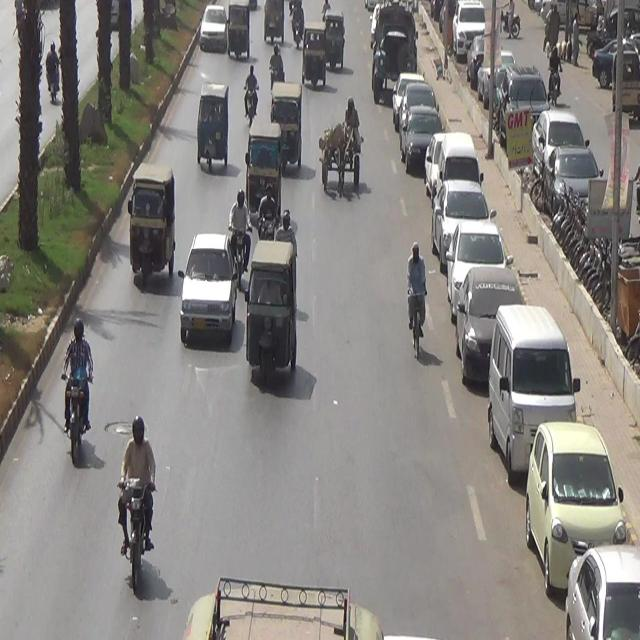car: (180, 222, 242, 358), (196, 0, 227, 66)
motorbike: (111, 405, 162, 612), (58, 301, 91, 488), (399, 231, 438, 365), (263, 41, 285, 98), (242, 64, 260, 122)
truck: (318, 94, 368, 208)
